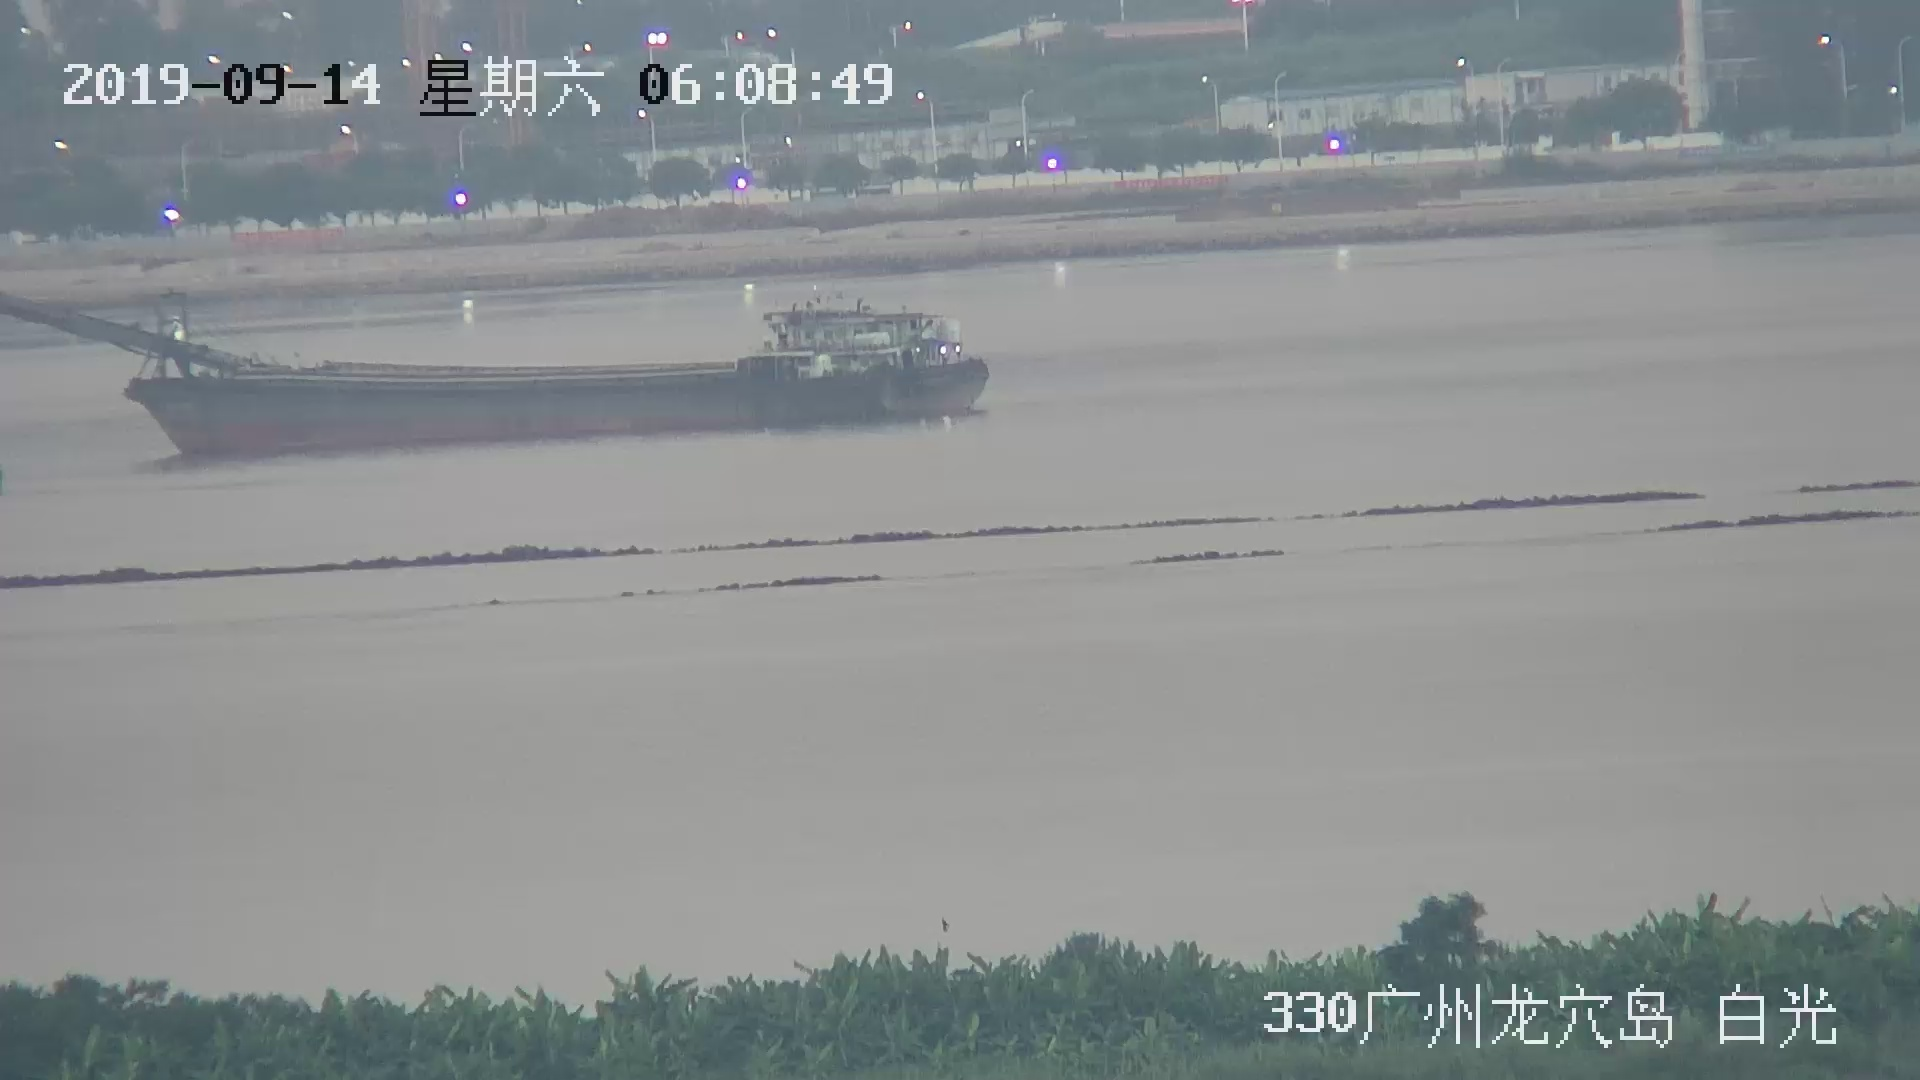ship: (3, 286, 988, 464)
